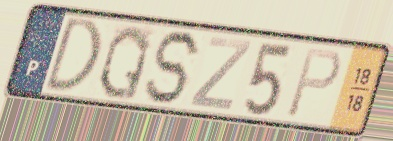5: (240, 38, 298, 118)
D: (40, 14, 103, 94)
P: (283, 46, 345, 121)
Q: (95, 22, 153, 103)
S: (141, 28, 207, 108)
Z: (186, 35, 255, 113)
